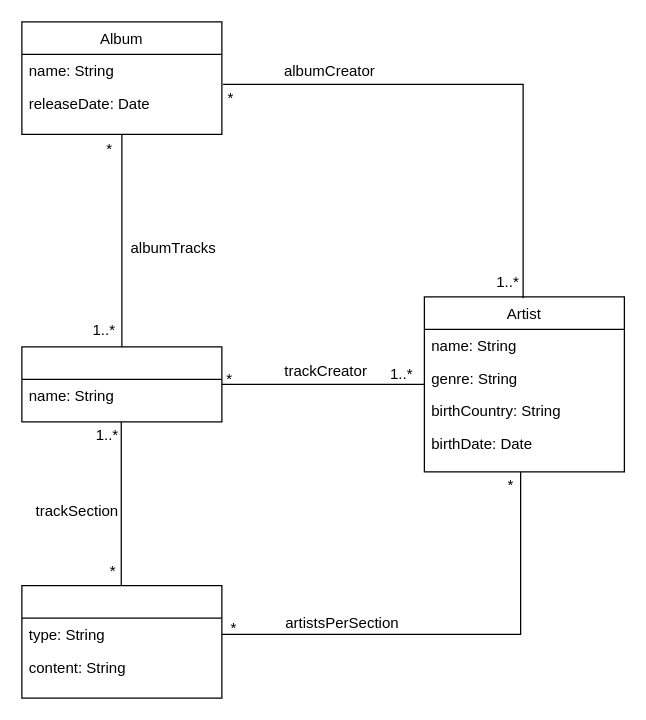
The diagram is 646 pixels wide and 720 high, and some of its shapes have lost their labels. The shapes that lost their labels are listed below. From the top down, each one's box as (x1, y1, x2, y2) in pixels, then its label:
(21, 346, 222, 422): Track
(21, 584, 222, 698): Section
